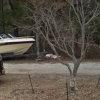Boat: (1, 26, 36, 64)
